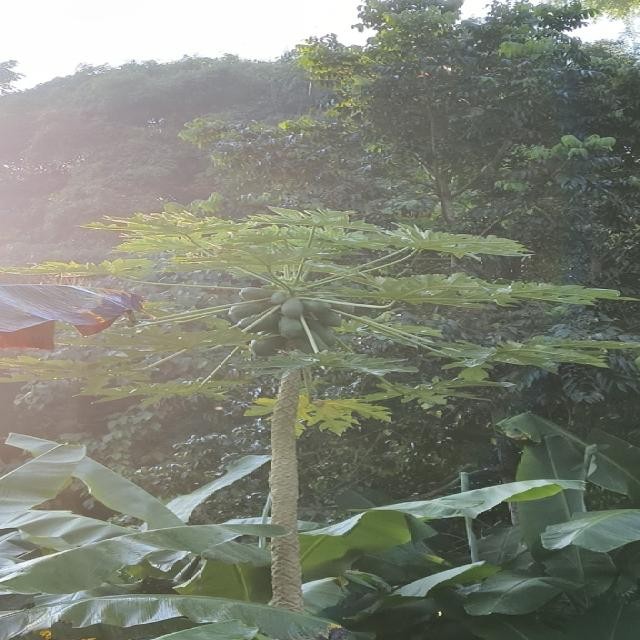Papaya-Tree: (0, 196, 604, 517)
